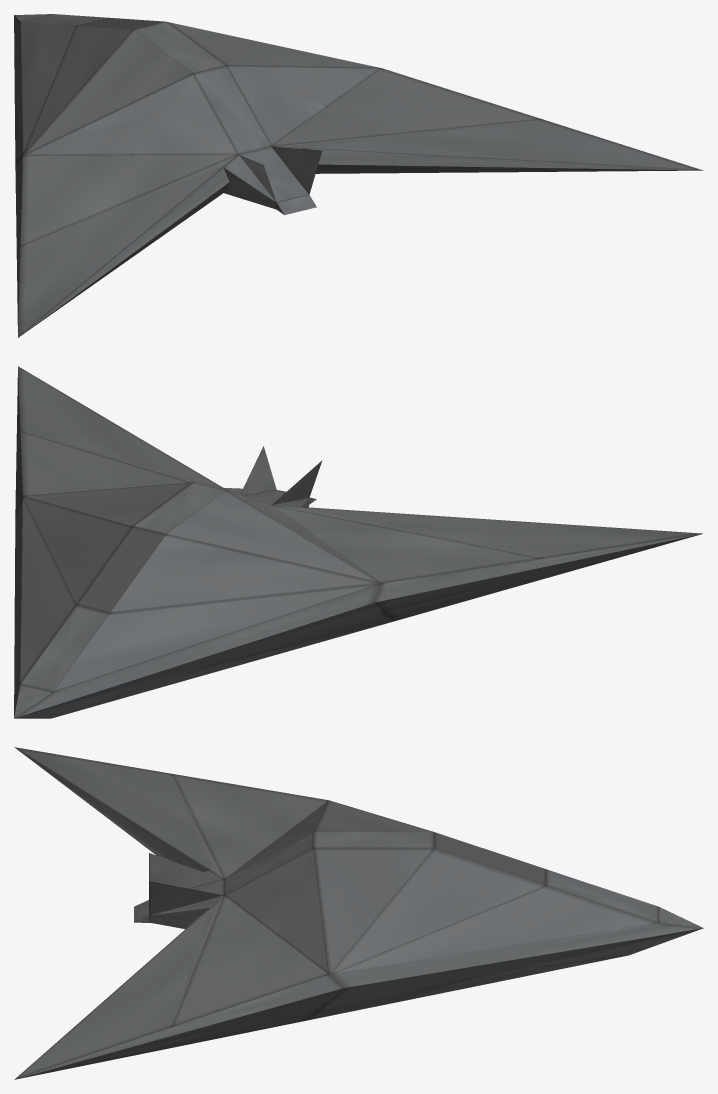
3 renders of one model, top to bottom at view 1: azimuth 30°, elevation 25°; view 2: azimuth 150°, elevation 25°; view 3: azimuth 270°, elevation 25°, orthographic.
Parts seen in each view (by area): view 1: world; view 2: world; view 3: world.
Boxes of the visible parts, x1,y1,x2,y2 form: world: (14, 14, 703, 337); world: (14, 366, 702, 718); world: (14, 747, 703, 1079).
Size of the model in its own units: 1.5 by 0.2434 by 1.32.
Materials: 1 (1 with a texture image).
